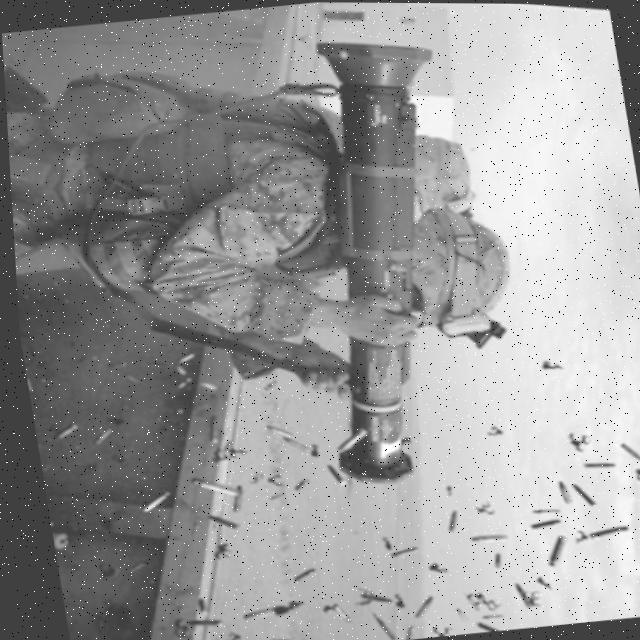rocket: (232, 17, 518, 497)
